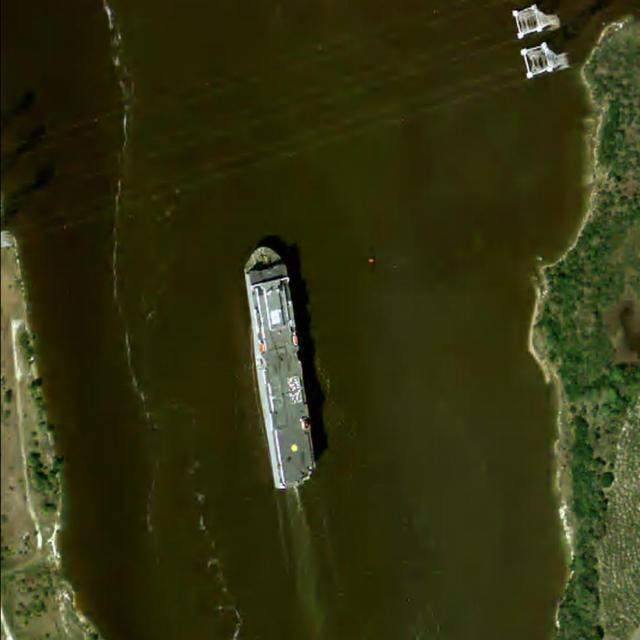RoRo: (234, 238, 319, 490)
